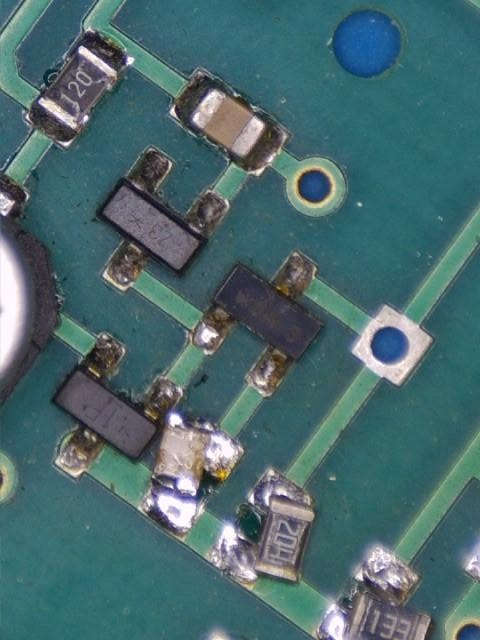pcb_defect: (134, 410, 246, 544), (203, 466, 318, 592), (310, 544, 433, 640)
